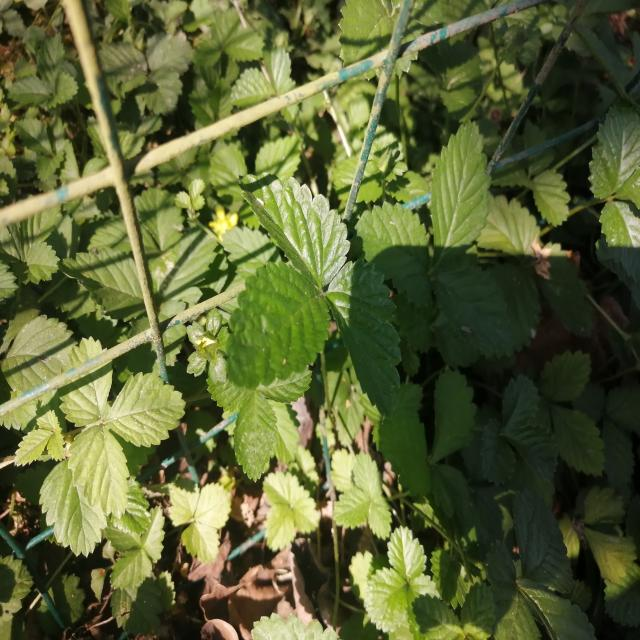Mock_strawberry: (214, 178, 415, 418), (28, 346, 190, 568)
